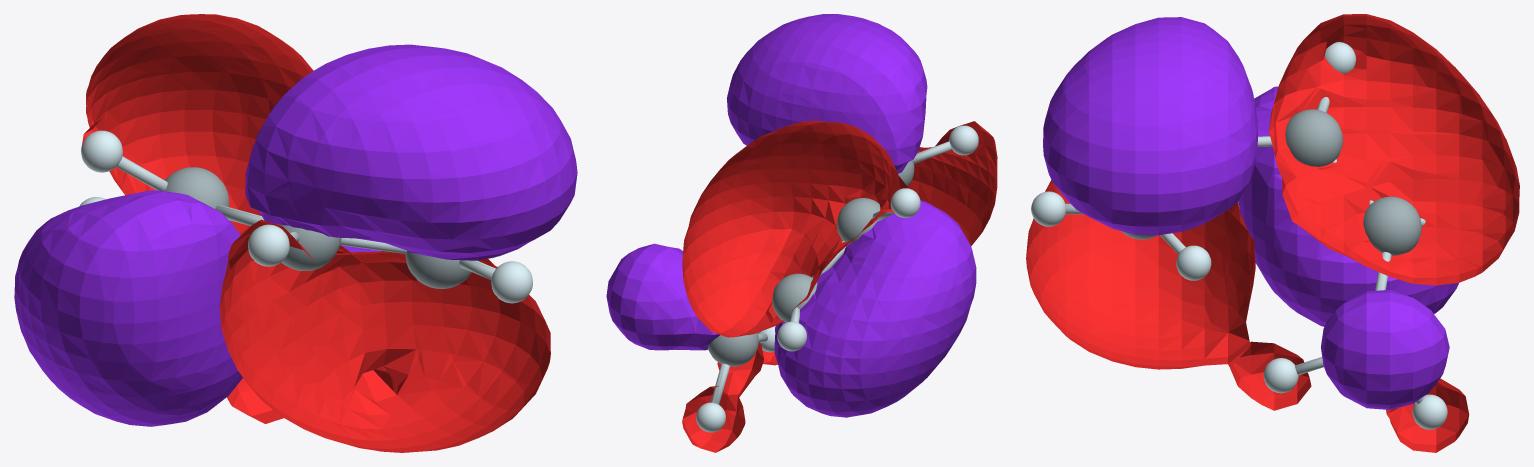
3 views of the same model, side by side, from view 1: azimuth 30°, elevation 25°; view 2: azimuth 150°, elevation 25°; view 3: azimuth 270°, elevation 25° (orthographic). The views are drawn at different scales.
Parts seen in each view (by area): view 1: Renderer Node; view 2: Renderer Node; view 3: Renderer Node.
Boxes of the visible parts, x1=… form: Renderer Node: x1=14, y1=14, x2=577, y2=452; Renderer Node: x1=606, y1=14, x2=997, y2=452; Renderer Node: x1=1026, y1=14, x2=1519, y2=452.
Bounding box in the file's own units: 4.98 × 5.06 × 5.6.
